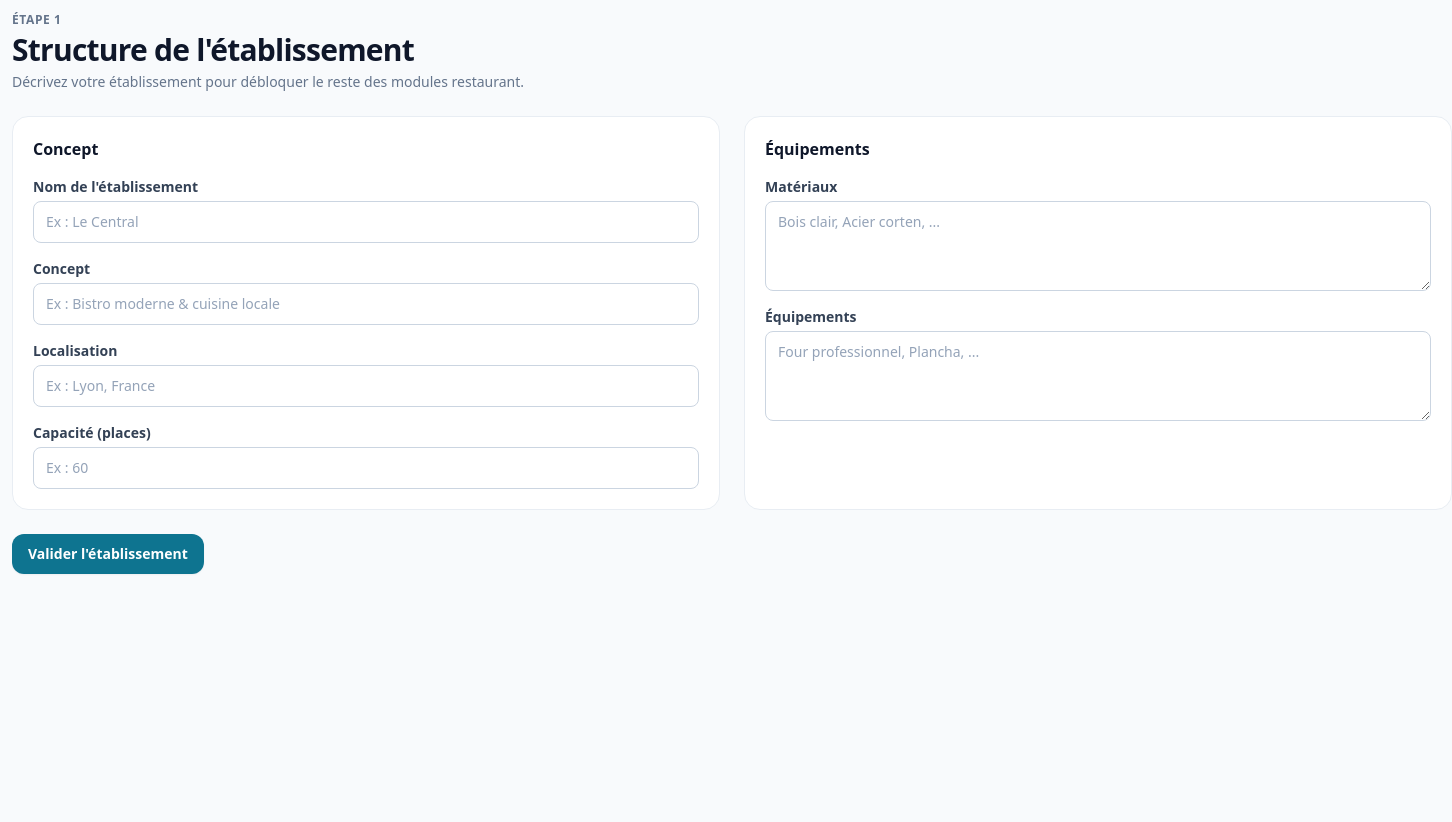
Test: submitting an incomplete form shows field errors and does not report success
Step 1. Click the button "Valider l'établissement" → (108, 554), box [12,534,204,574]
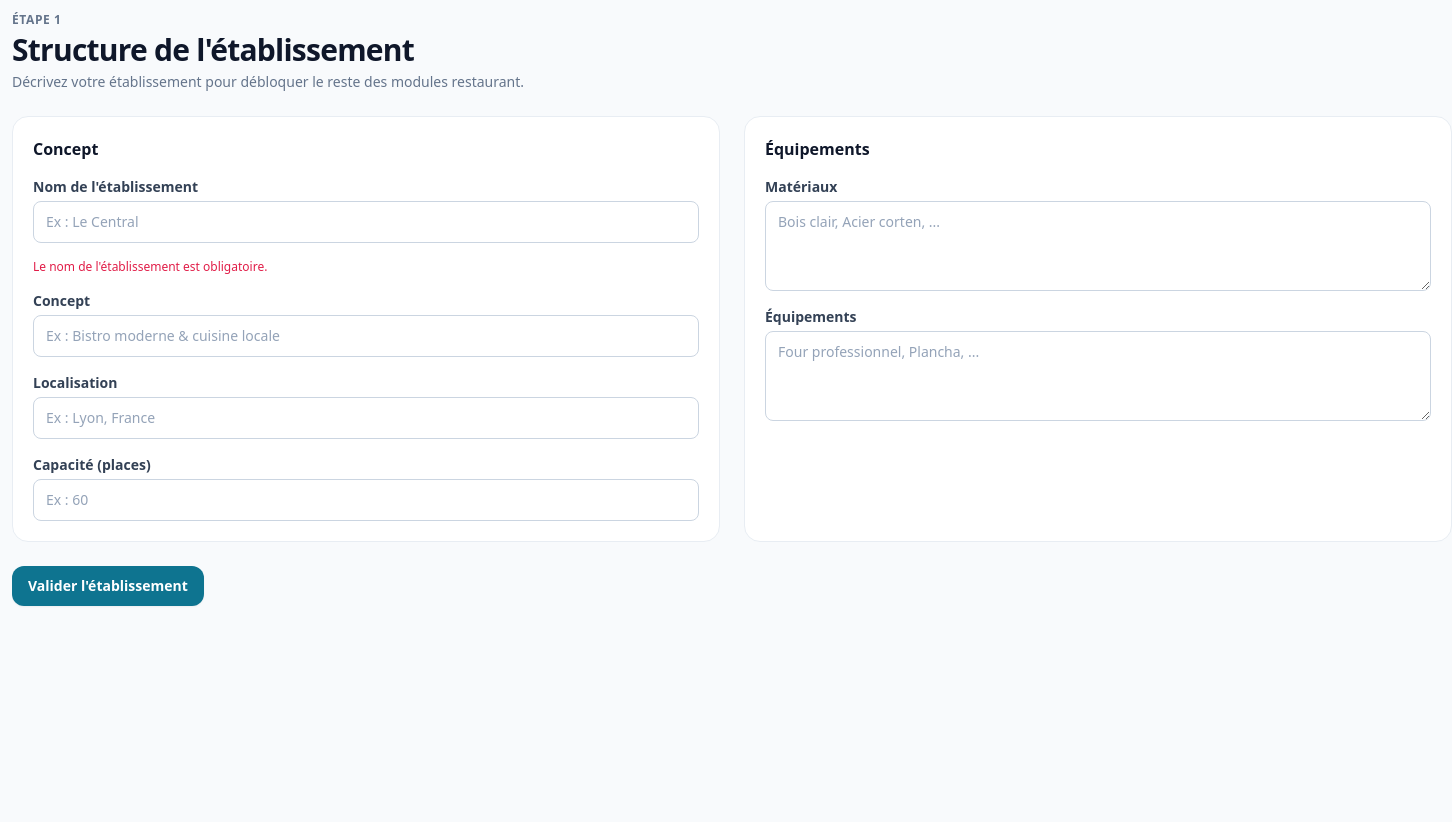
Expected: the text "Le nom de l'établissement est obligatoire." is shown, [33,258,267,275]
